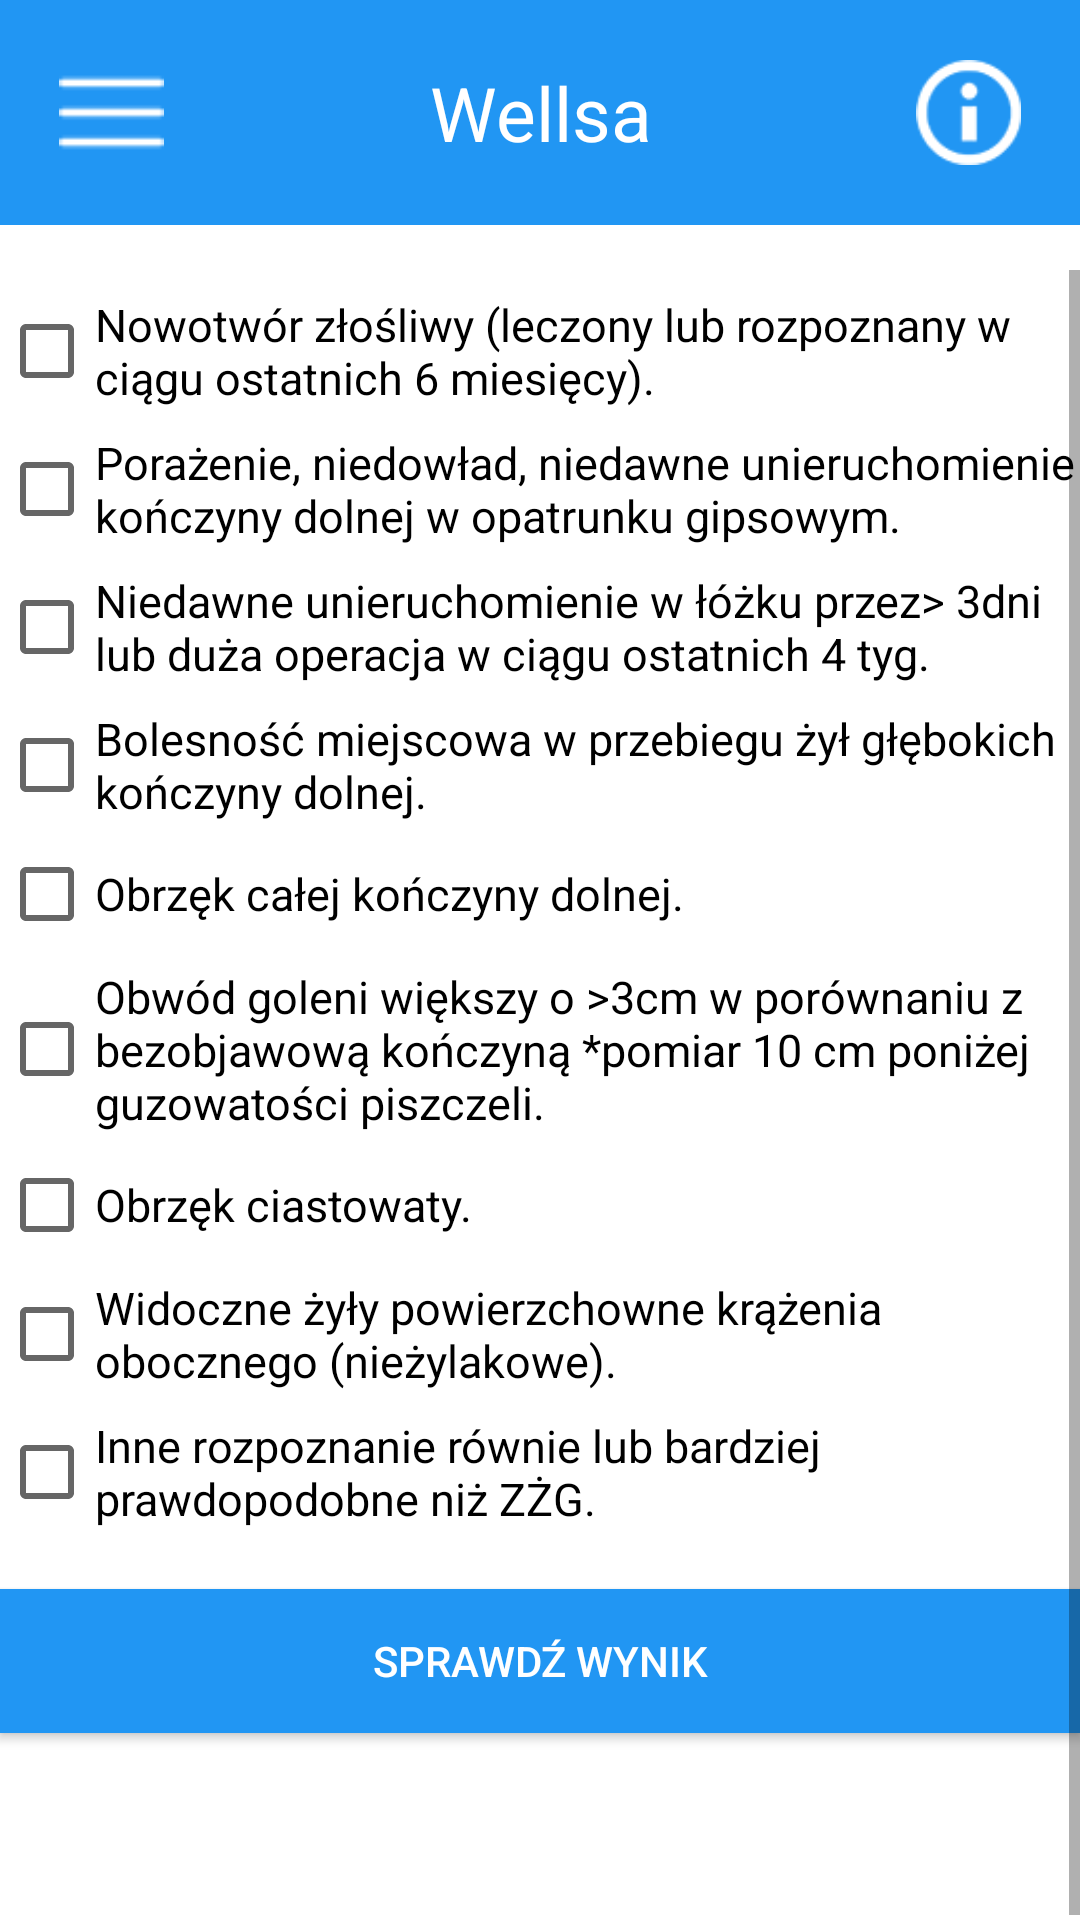

Icon bounding boxes for this 1080 x 1920 phone screenshot, format bbox=(x1, y1, x2, y2):
info: bbox=(916, 60, 1021, 165)
open: bbox=(59, 76, 164, 149)
